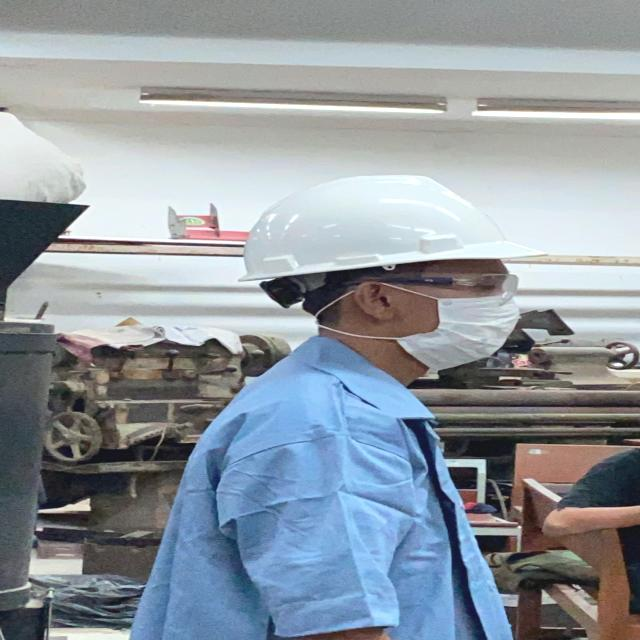face_mask: (385, 265, 530, 370)
glasses: (357, 271, 529, 305)
head_helmet: (226, 172, 538, 274)
person: (142, 165, 567, 640)
